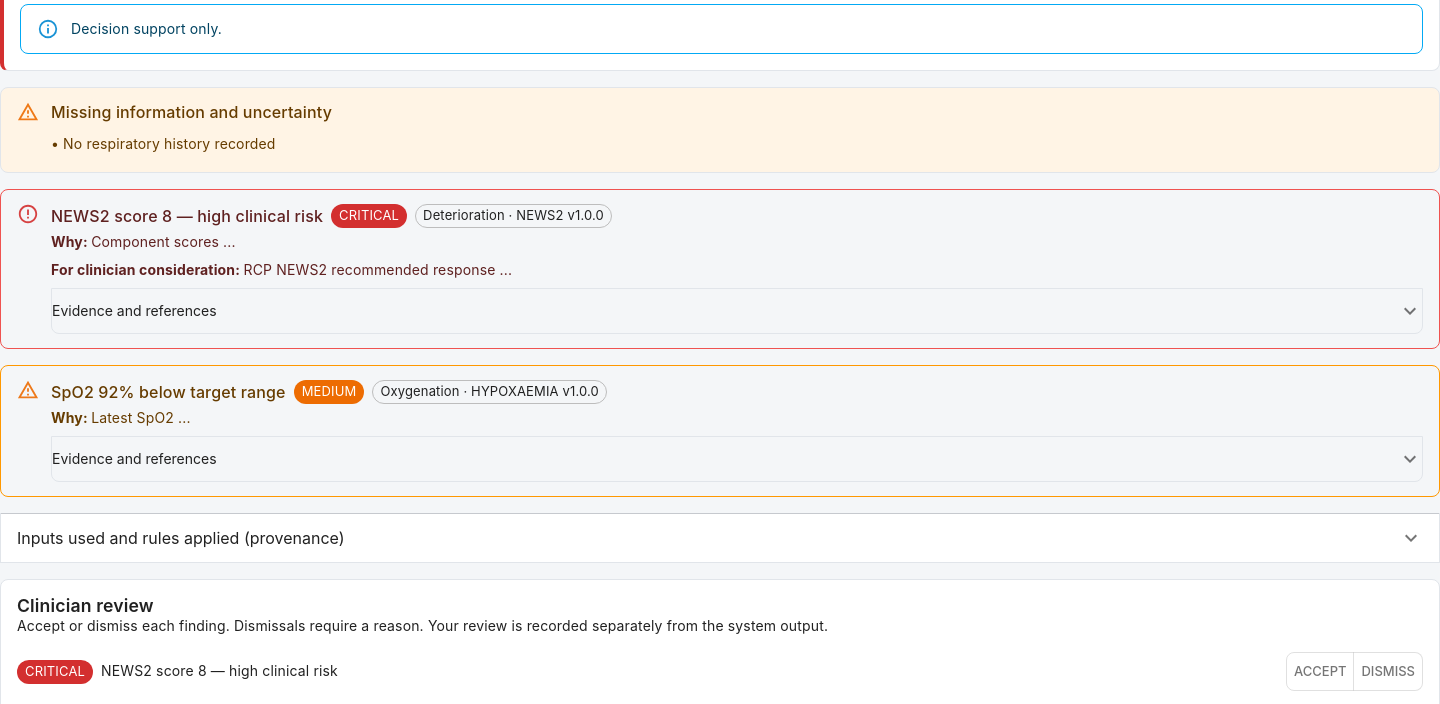
AssessmentResult › requires a disposition for every alert and a reason to dismiss before submitting
The image size is (1440, 704).
Step 1. Click the 1st button "Accept" → (1320, 672), box [1286, 652, 1354, 691]
(page scrolled)
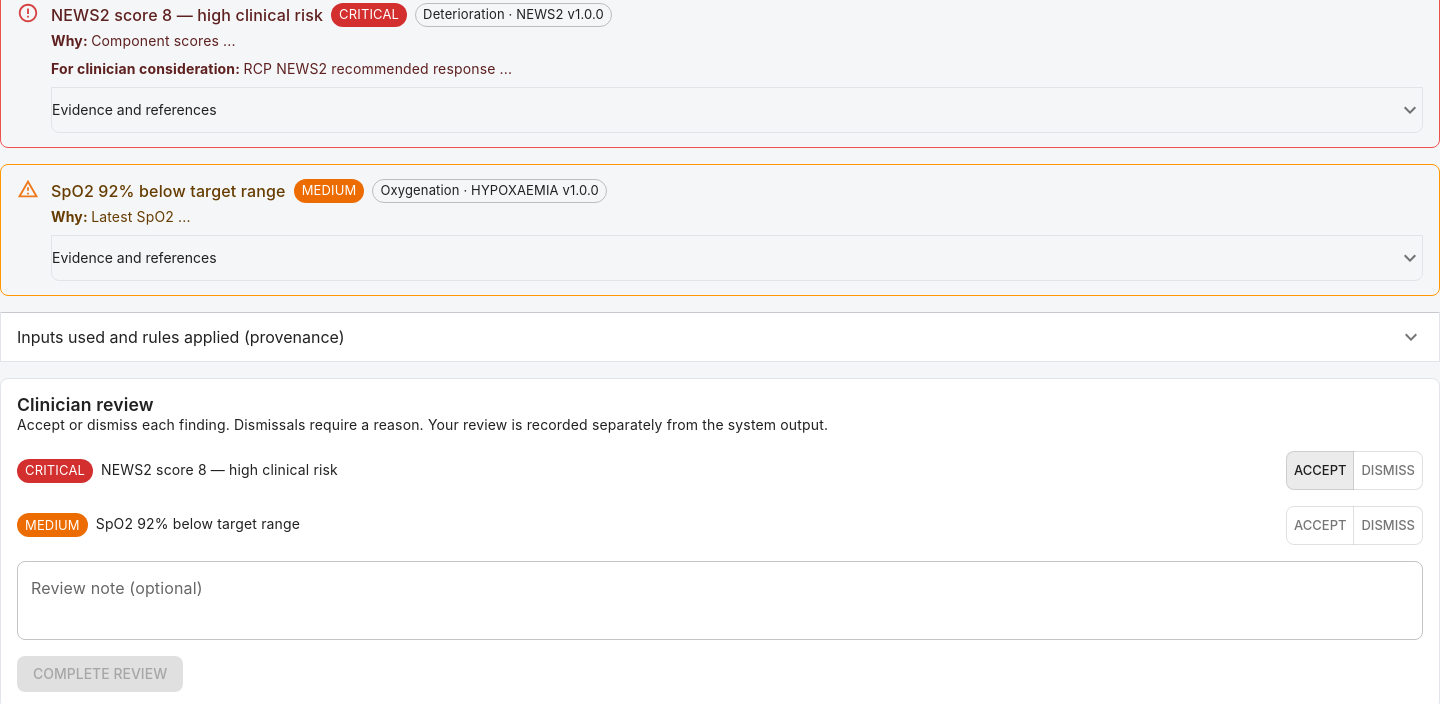
Step 2. Click the 2nd button "Dismiss" → (1388, 525), box [1354, 506, 1423, 545]
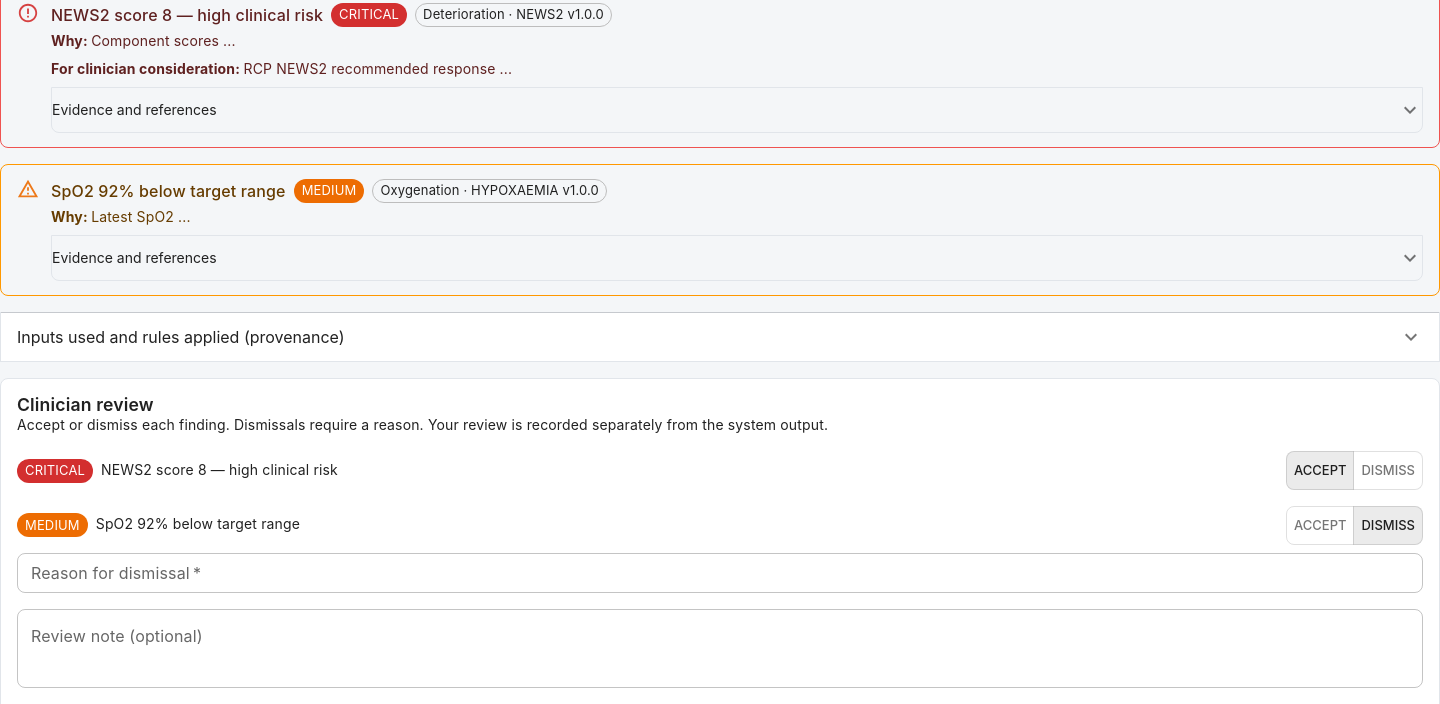
Step 3. Type "Known chronic hypoxaemia" into the field labelled "Reason for dismissal *" → (720, 573), box [17, 553, 1423, 593]
(page scrolled)
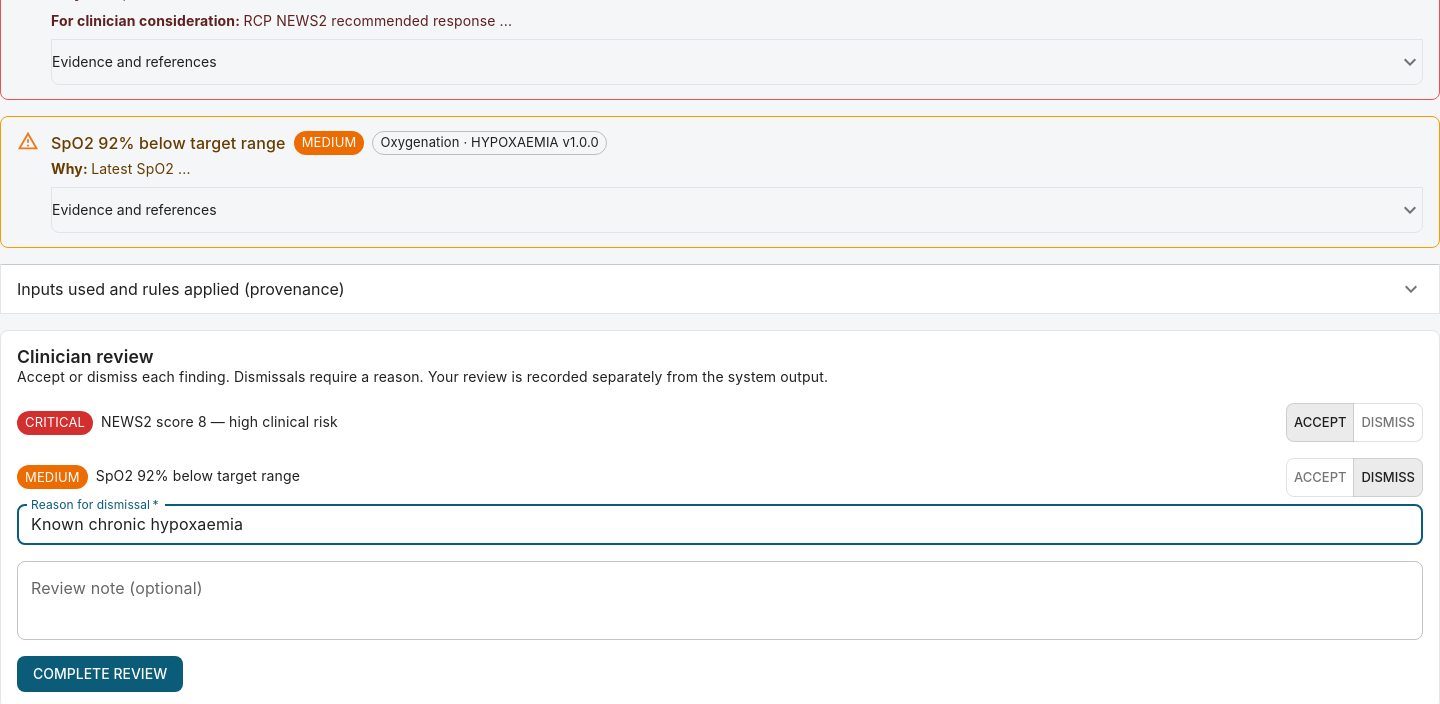
expect the button "Complete review" is enabled: met
Step 4. Click the button "Complete review" → (100, 674), box [17, 656, 183, 692]
(page scrolled)
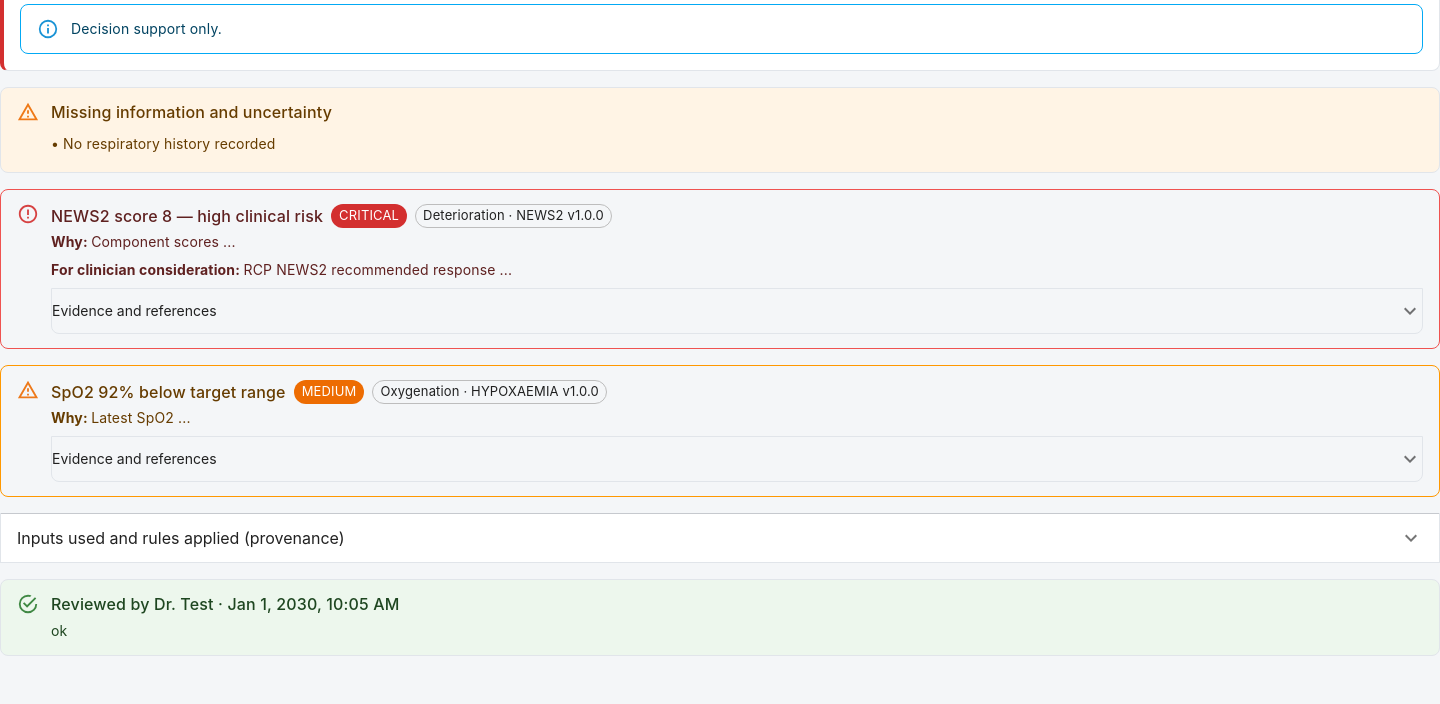
expect the text "Reviewed by Dr. Test · Jan 1, 2030, 10:05 AM" is shown: met, box [51, 592, 399, 616]
